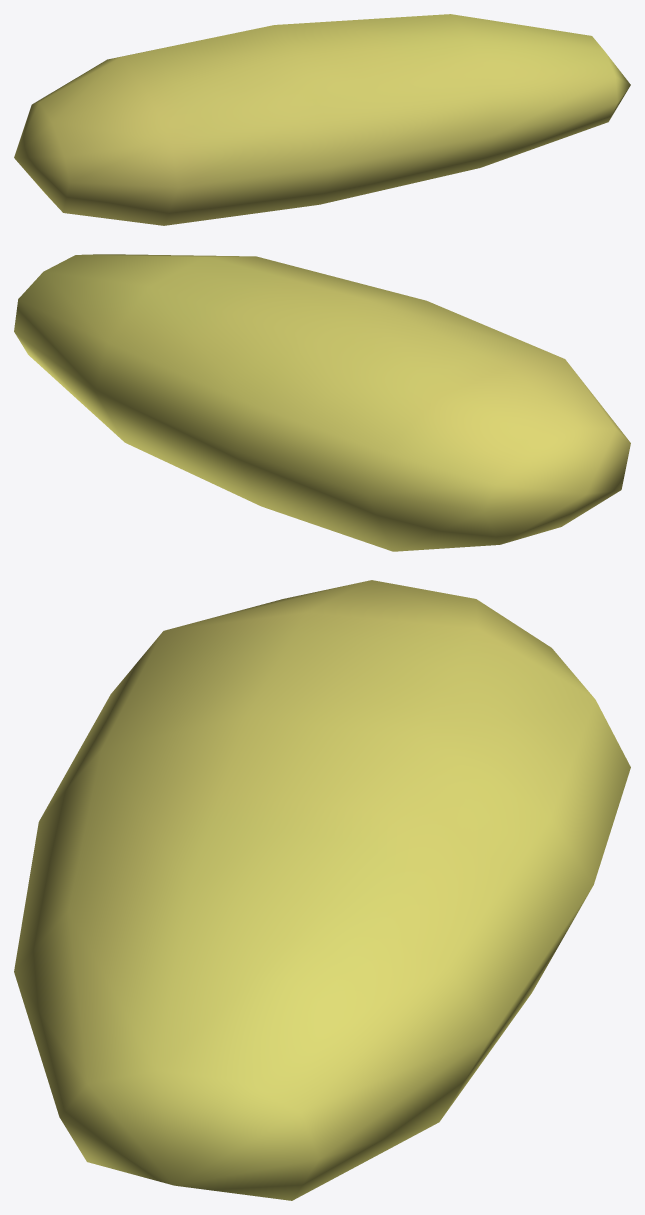
Rendered from PC_Woman_Eyebrow008_L.glb.
3 views of the same model, one above another, from view 1: azimuth 30°, elevation 25°; view 2: azimuth 150°, elevation 25°; view 3: azimuth 270°, elevation 25° (orthographic). The views are drawn at different scales.
Parts seen in each view (by area): view 1: PC_Woman_Eyebrow008_L_mesh; view 2: PC_Woman_Eyebrow008_L_mesh; view 3: PC_Woman_Eyebrow008_L_mesh.
Boxes of the visible parts, <box> form: PC_Woman_Eyebrow008_L_mesh: <box>14,14,630,225</box>; PC_Woman_Eyebrow008_L_mesh: <box>14,254,630,551</box>; PC_Woman_Eyebrow008_L_mesh: <box>14,580,630,1200</box>.
Bounding box in the file's own units: 0.1433 × 0.0329 × 0.0716.
1 material, 1 textured.
